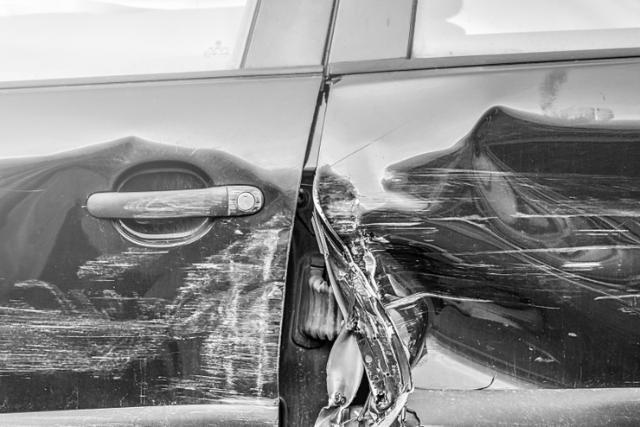Door: (7, 97, 640, 427)
